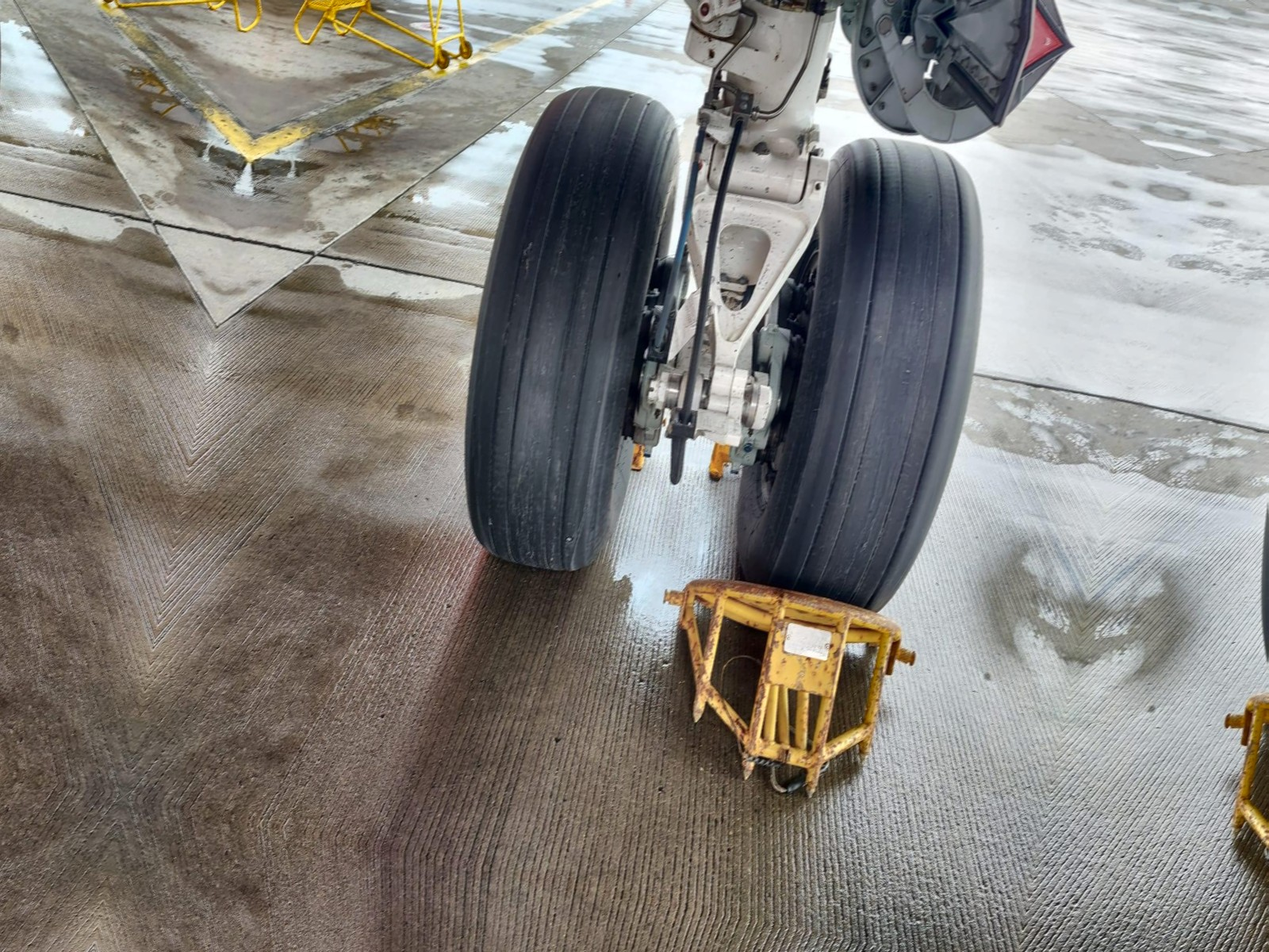chock: (628, 560, 926, 816)
wheel: (426, 65, 706, 593), (725, 121, 1015, 615)
